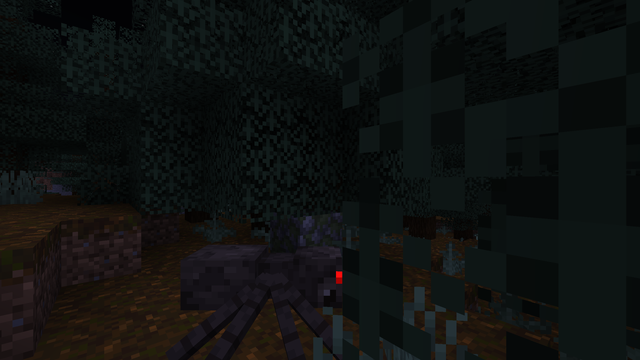araignees: (194, 227, 325, 356)
